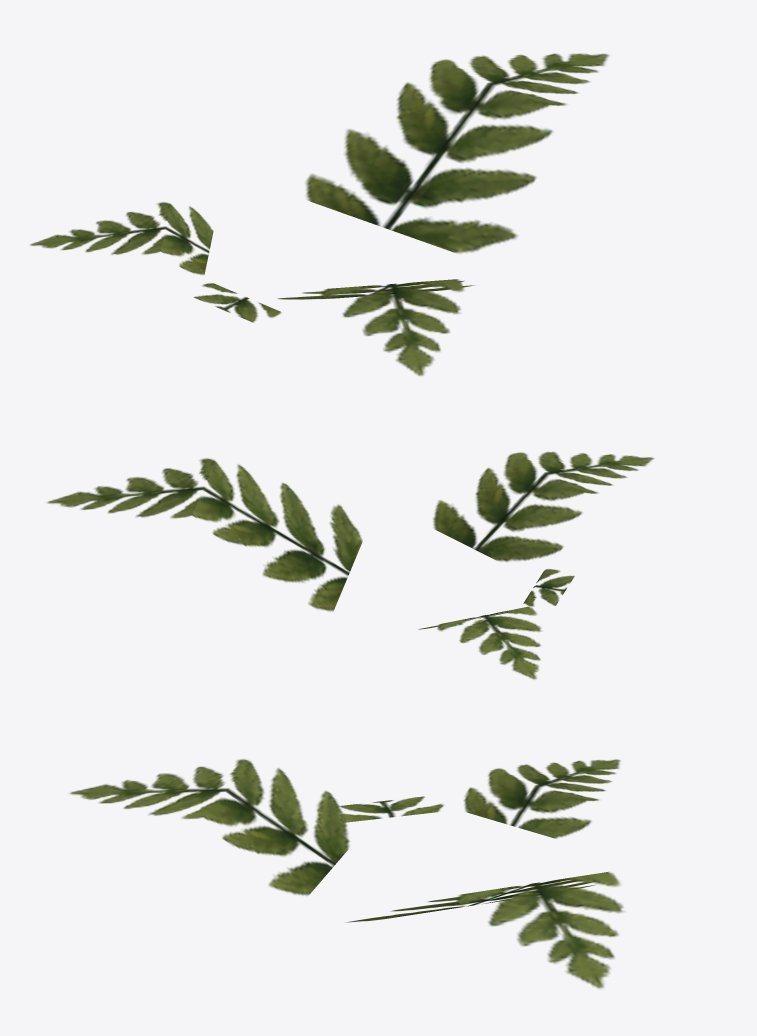
File: lp_bush_a_crown.glb
3 renders of one model, top to bottom at view 1: azimuth 30°, elevation 25°; view 2: azimuth 150°, elevation 25°; view 3: azimuth 270°, elevation 25°, orthographic. The views are drawn at different scales.
Parts seen in each view (by area): view 1: lp_bush_a_high; view 2: lp_bush_a_high; view 3: lp_bush_a_high.
Boxes of the visible parts, x1=… form: lp_bush_a_high: x1=30, y1=53, x2=609, y2=375; lp_bush_a_high: x1=47, y1=451, x2=654, y2=679; lp_bush_a_high: x1=69, y1=759, x2=624, y2=988.
Size of the model in its own units: 1.26 by 0.1551 by 1.11.
1 material, 1 textured.
